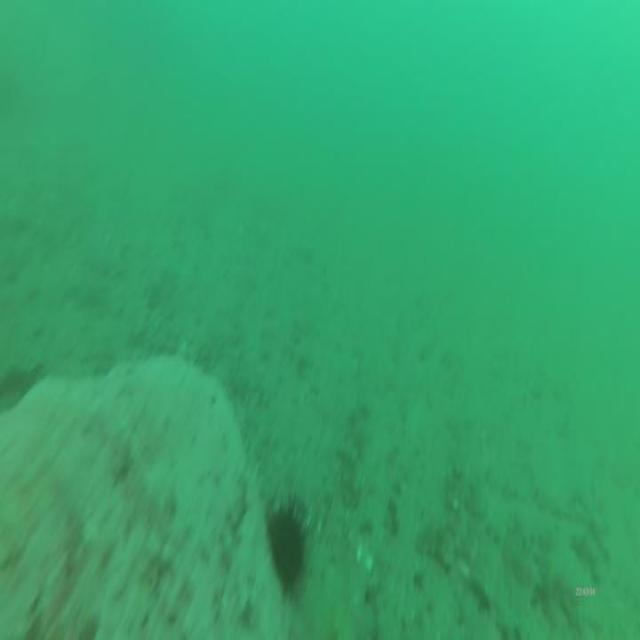echinus: (260, 490, 308, 596)
holothurian: (451, 498, 557, 640), (449, 458, 547, 593)
